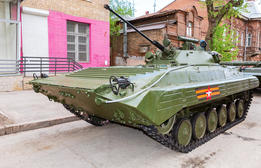bmp: (30, 42, 259, 152)
